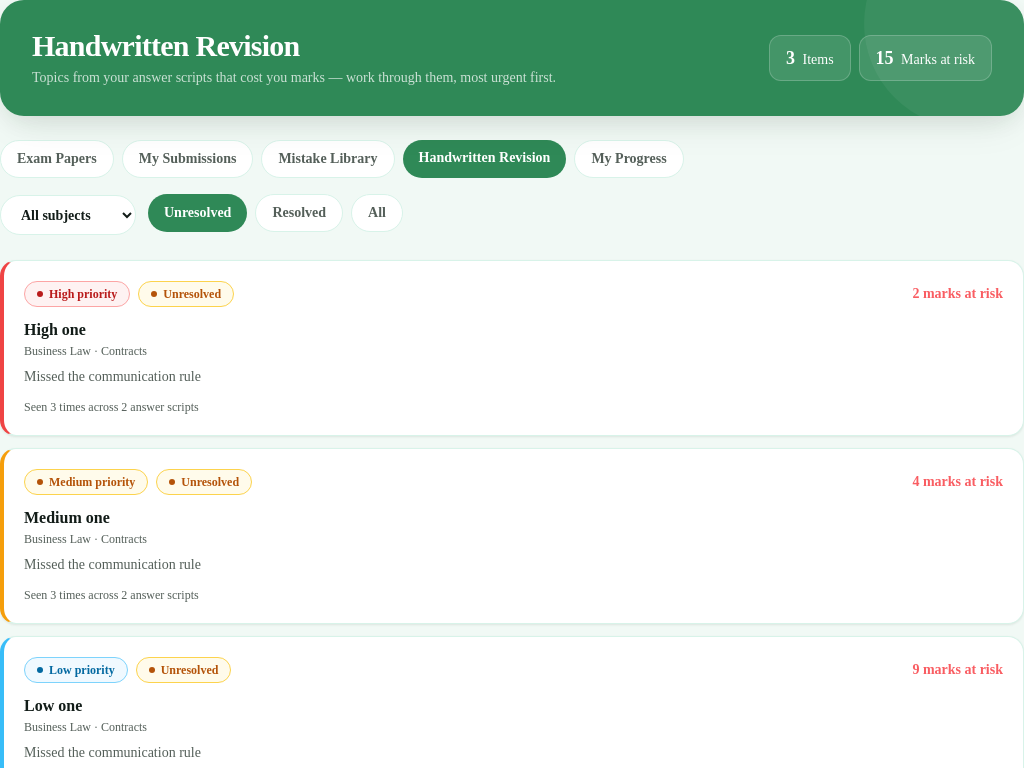
Test: HandwrittenRevision › starts on unresolved and switches to resolved
The width and height of the screenshot is (1024, 768).
expect the heading "High one" is shown: met, box top-left (24, 321), bottom-right (86, 338)
expect the text "Done one" is not shown: met
Click the button "Resolved": click(299, 213) top-left (255, 194), bottom-right (343, 232)
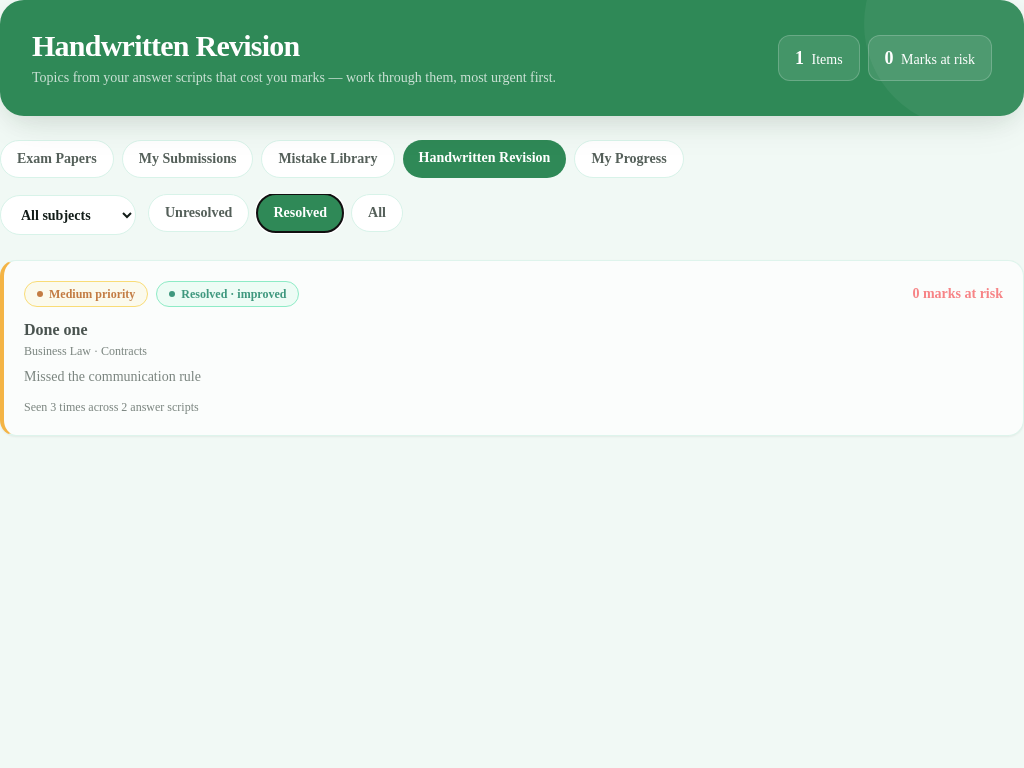
expect the heading "High one" is gone: met
expect the text "Resolved · improved" is shown: met, box top-left (156, 281), bottom-right (299, 307)
